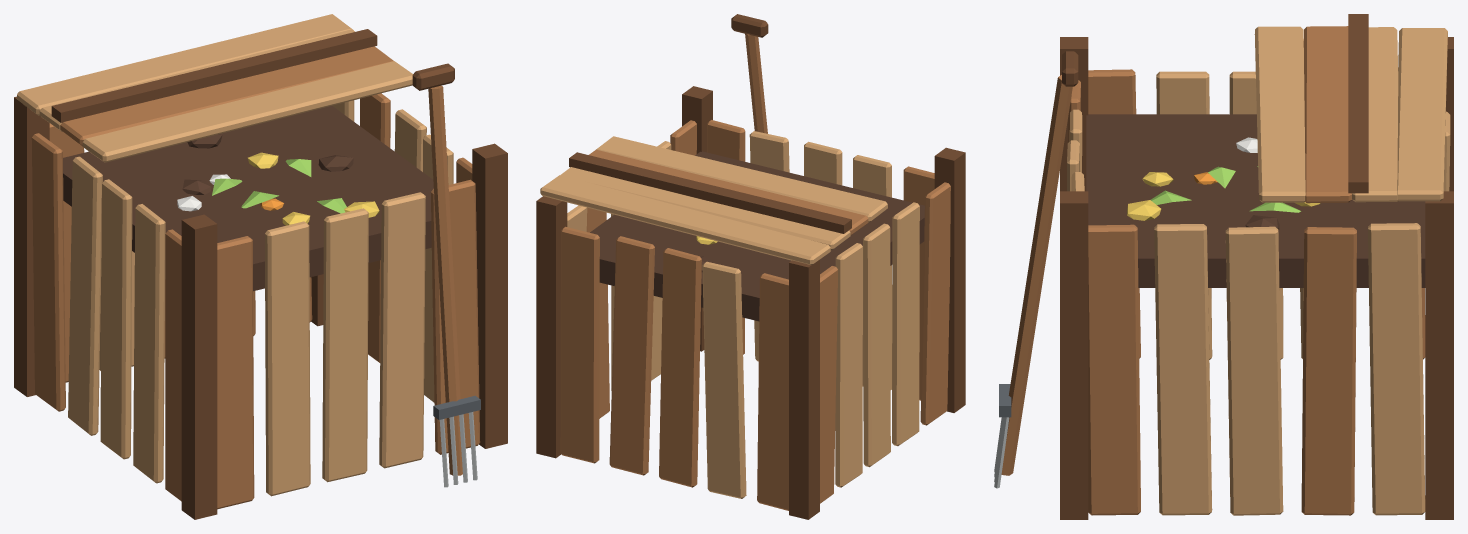
File: compost_bin.glb
The picture shows the model from 3 angles, left to right: view 1: azimuth 30°, elevation 25°; view 2: azimuth 150°, elevation 25°; view 3: azimuth 270°, elevation 25°; orthographic projection. The views are drawn at different scales.
Parts seen in each view (by area): view 1: Compost Bin; view 2: Compost Bin; view 3: Compost Bin.
Boxes of the visible parts, <box> form: Compost Bin: <box>14,14,507,519</box>; Compost Bin: <box>536,14,965,519</box>; Compost Bin: <box>994,14,1453,519</box>.
Bounding box in the file's own units: 0.9812 × 1.15 × 1.13.
1 material, 1 textured.
